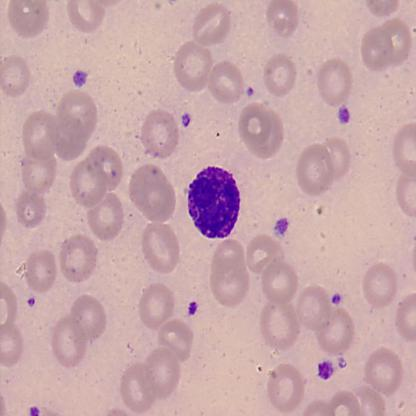Basophil: (185, 164, 242, 240)
